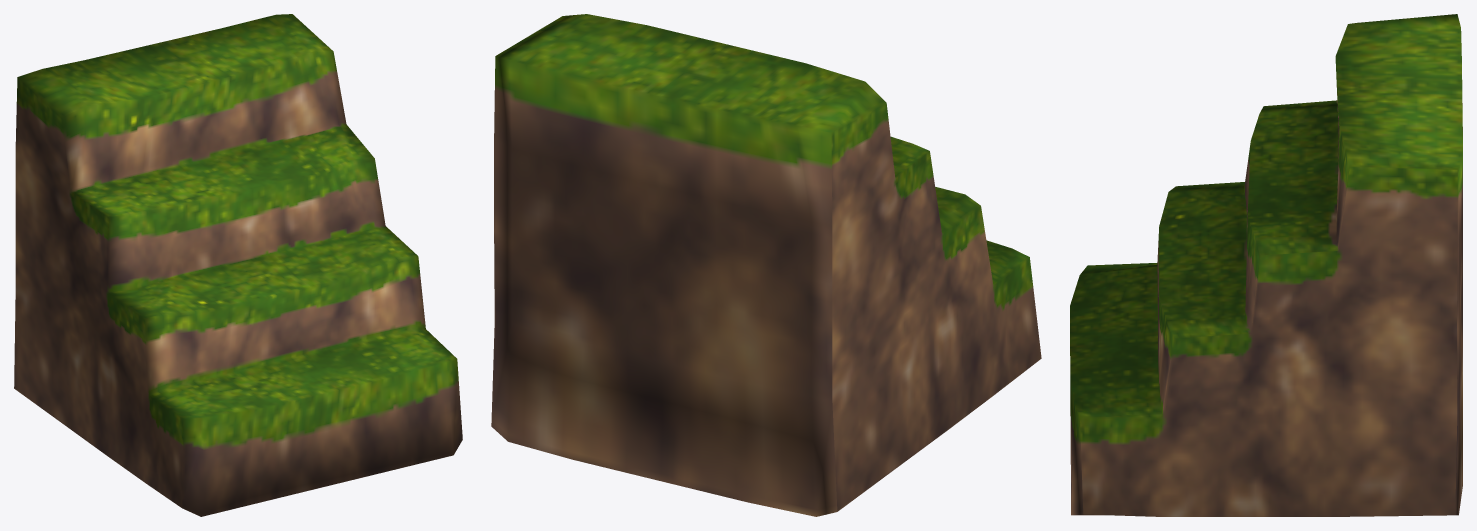
File: EP1_stairs_grass02.fbx
3 renders of one model, left to right at view 1: azimuth 30°, elevation 25°; view 2: azimuth 150°, elevation 25°; view 3: azimuth 270°, elevation 25°, orthographic. The views are drawn at different scales.
Visible parts, largest first — view 1: stairs_grass02_geo; view 2: stairs_grass02_geo; view 3: stairs_grass02_geo.
Part boxes in pixels (x1=…): stairs_grass02_geo: x1=14, y1=14, x2=462, y2=516; stairs_grass02_geo: x1=491, y1=14, x2=1041, y2=516; stairs_grass02_geo: x1=1070, y1=14, x2=1462, y2=516.
Bounding box in the file's own units: 1.03 × 1.11 × 1.1.
